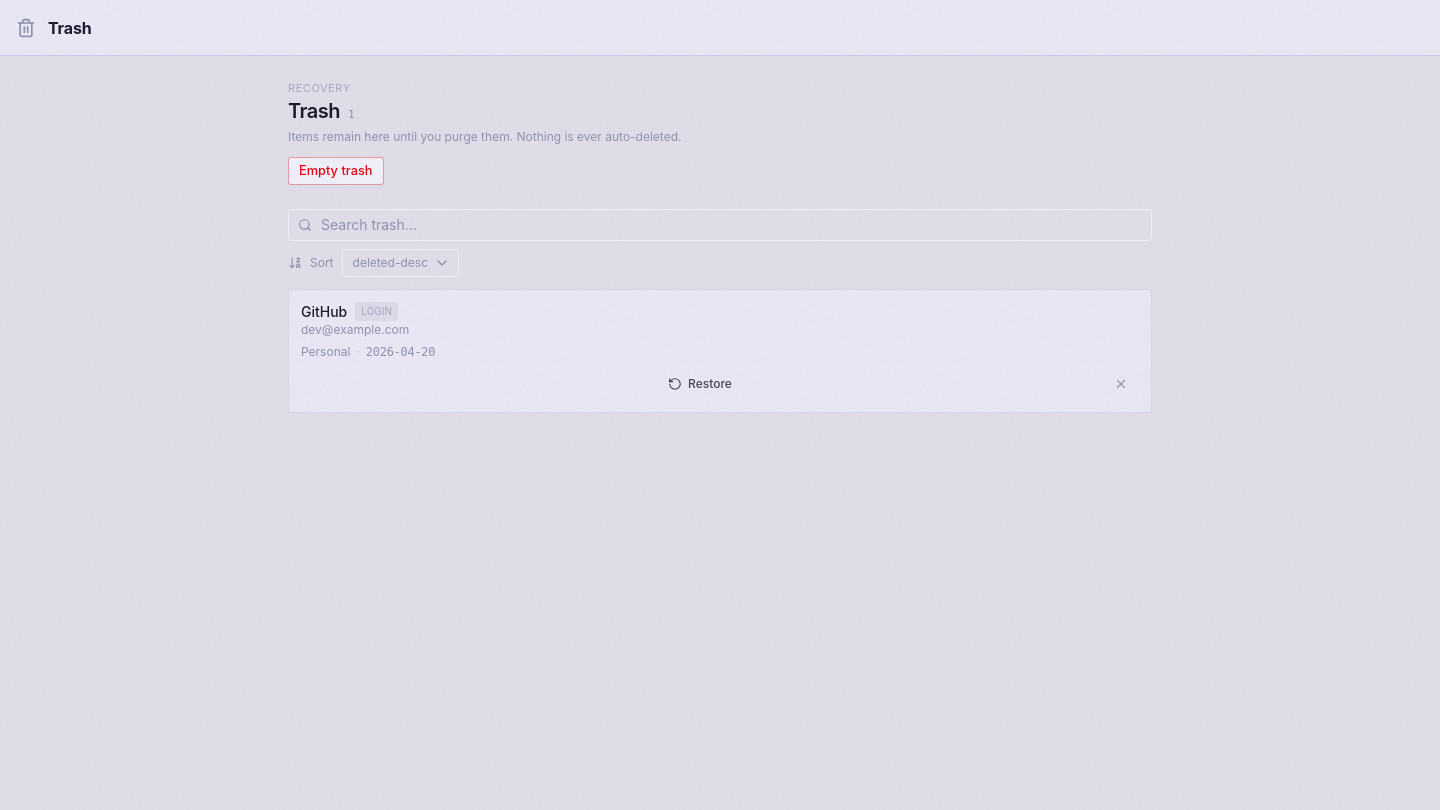
Scenario: TrashPage › empty trash confirmation uses singular item wording
Click the button "Empty trash".
click(336, 170)  # box [288, 156, 384, 184]
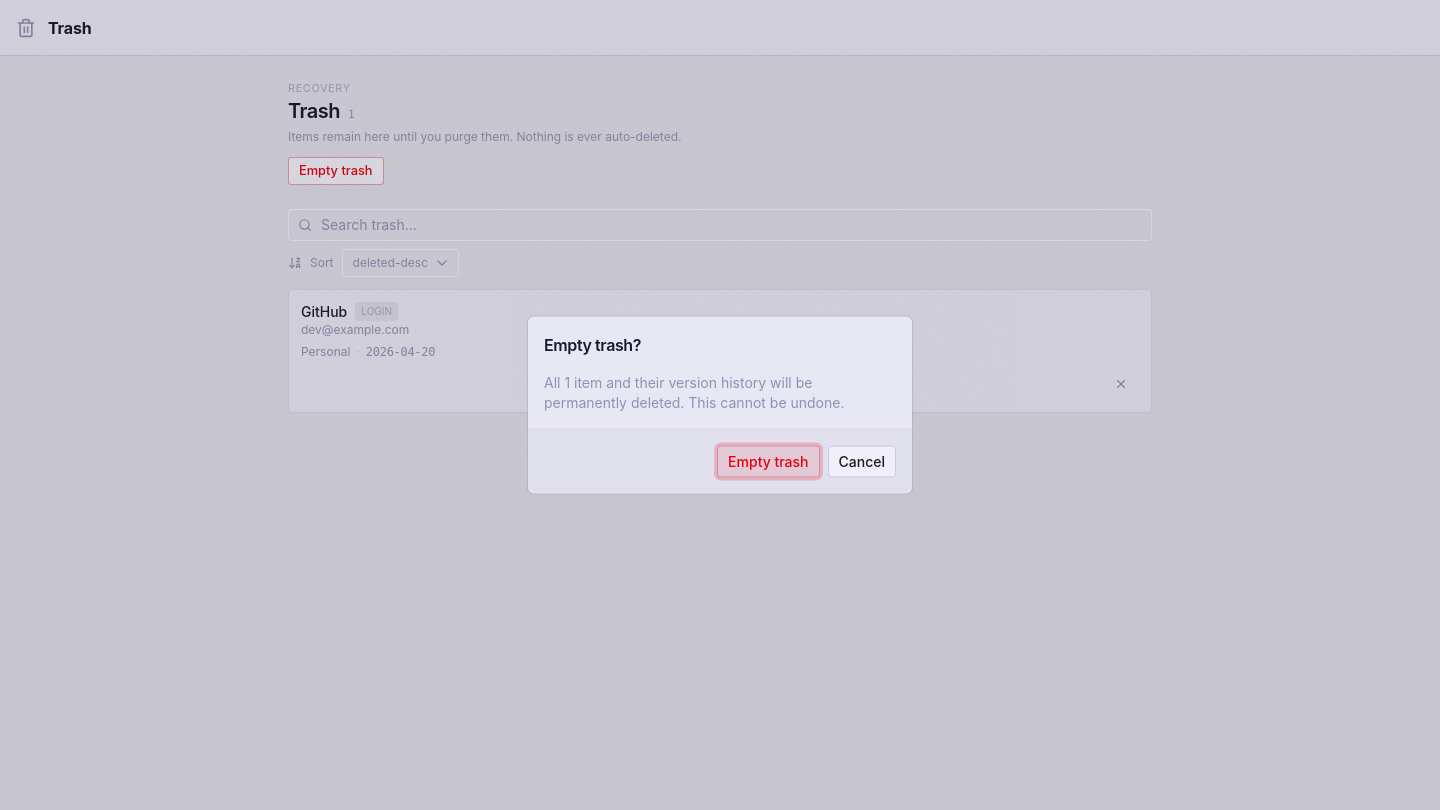
Expected: the text "All 1 item and their version history will be permanently deleted. This cannot be undone." is shown, [544, 374, 844, 410]
